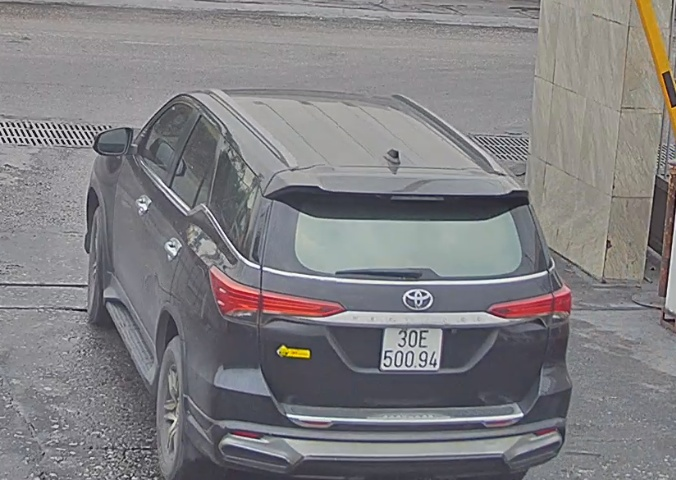vehicle plate: (375, 323, 446, 374)
